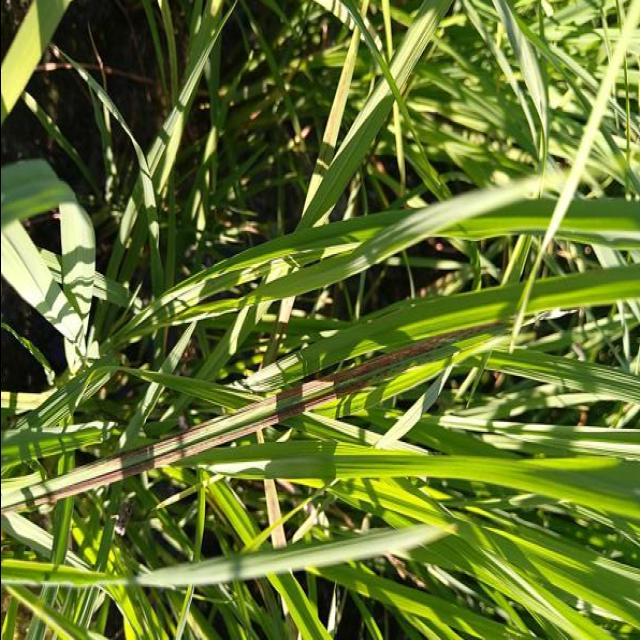Leaf Streak: (17, 321, 508, 512)
